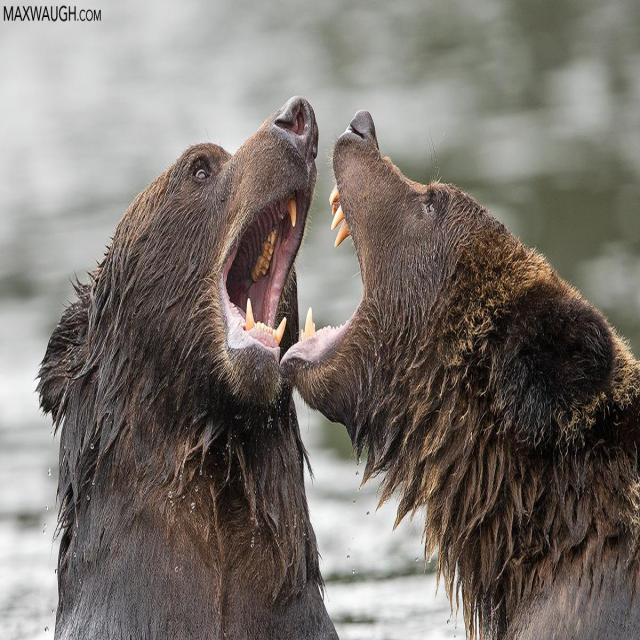Bear: (281, 111, 640, 640), (37, 101, 340, 640)
